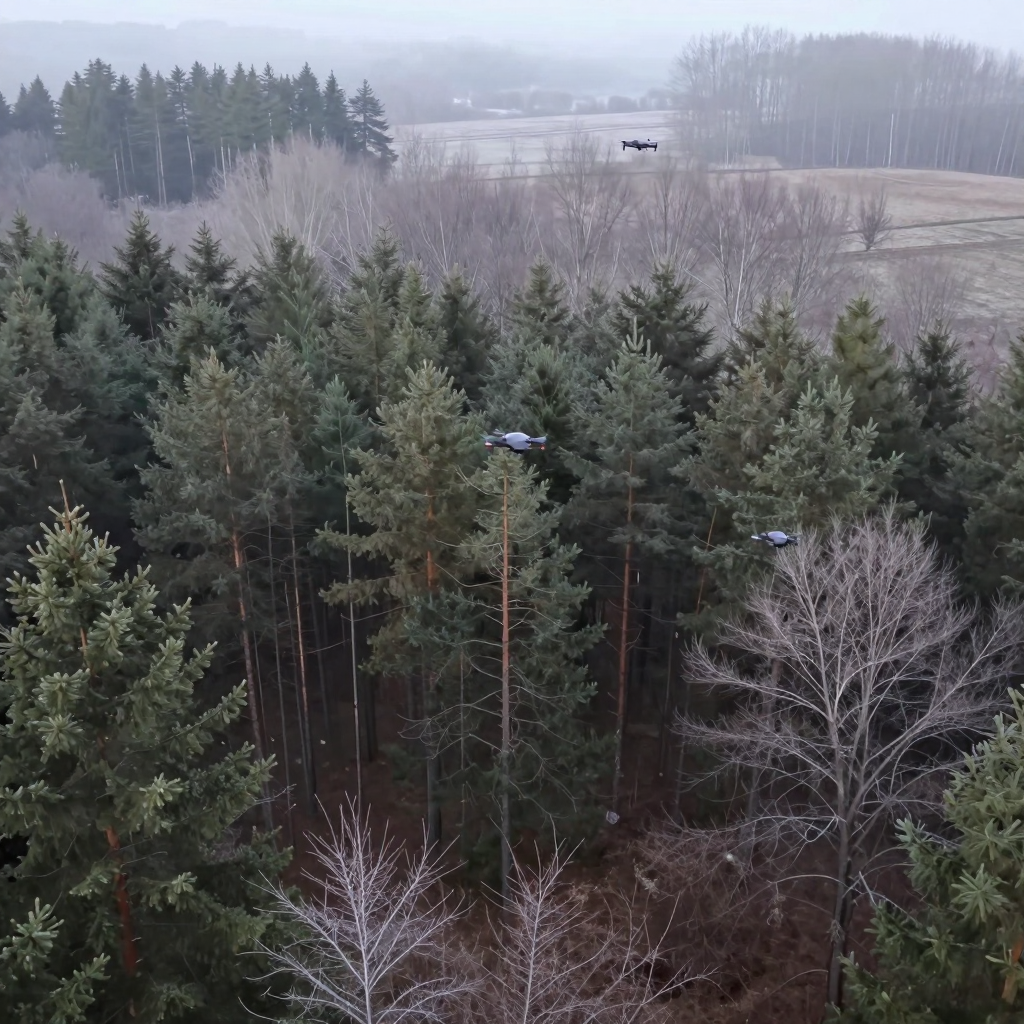drone: (482, 432, 548, 453), (751, 531, 801, 548), (620, 139, 658, 152)
